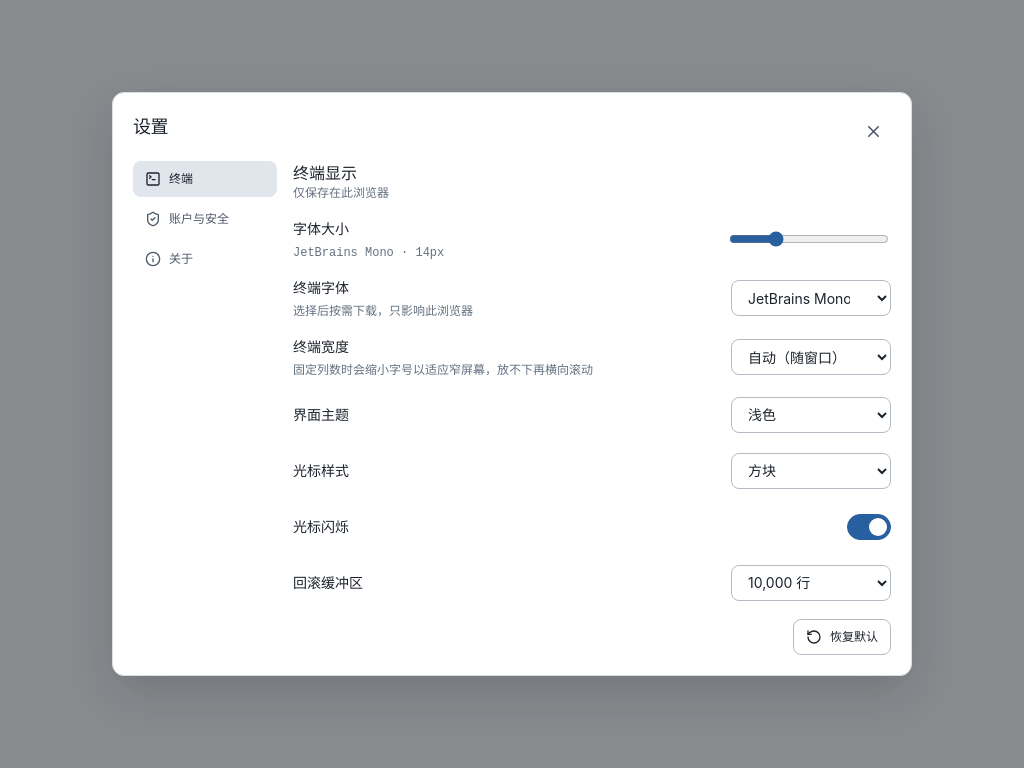
it: SettingsDialog behavior › reports a rejected current password without ending the session
The image size is (1024, 768).
Click the button "账户与安全".
click(205, 219)  # box [133,201,277,237]
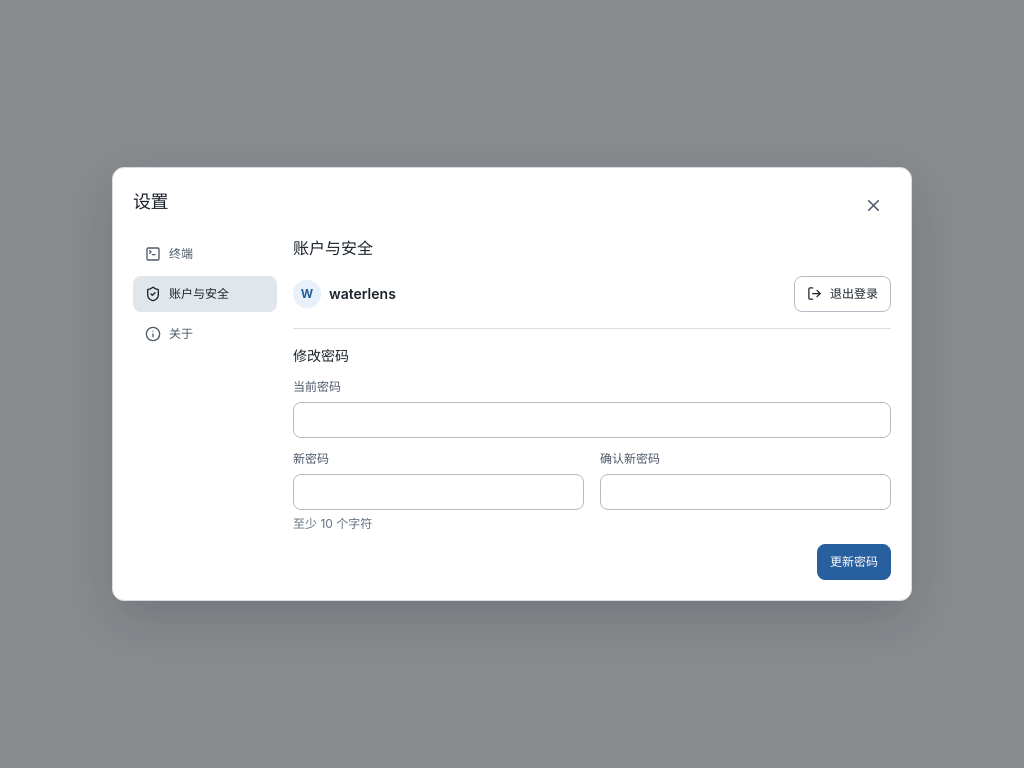
Type "wrong-password" into the password field labelled "当前密码".
click(592, 420); type("wrong-password")  # box [293,402,891,438]
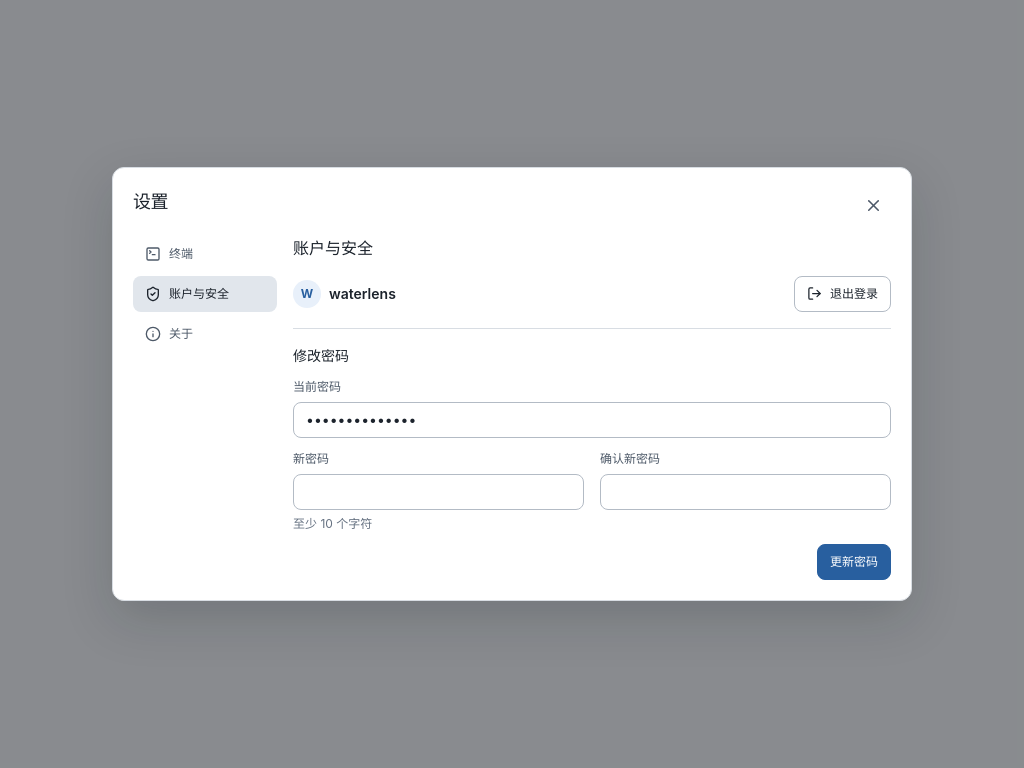
Type "new-password" into the password field labelled "新密码 至少 10 个字符".
click(438, 492); type("new-password")  # box [293,474,584,510]
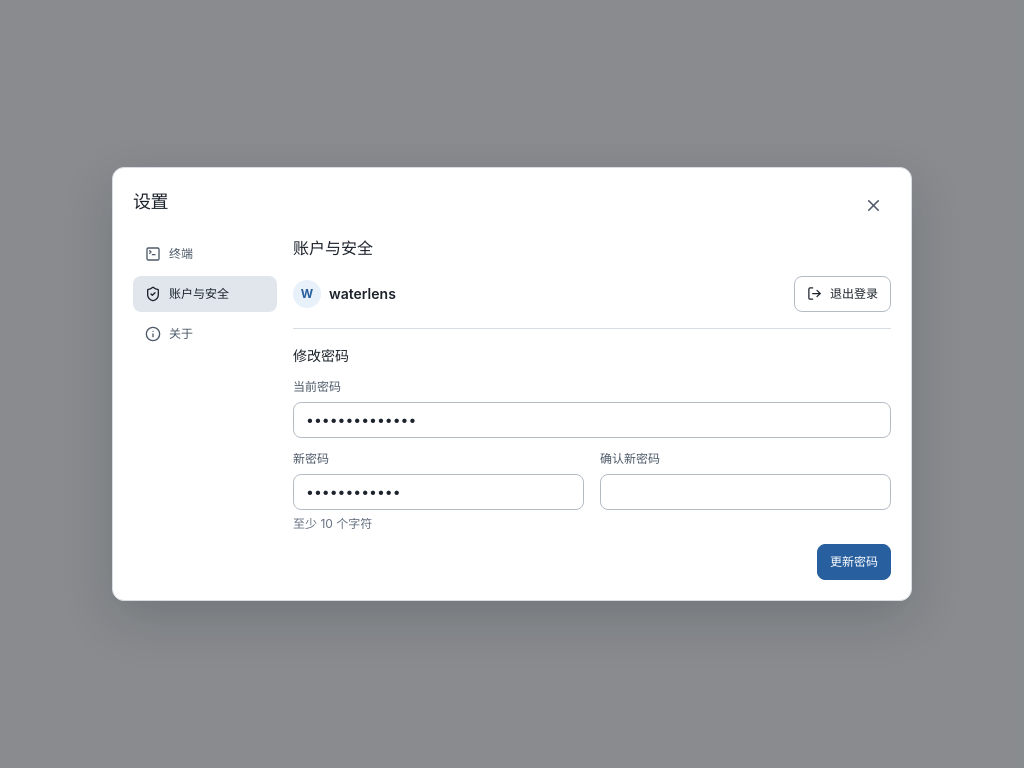
Type "new-password" into the password field labelled "确认新密码".
click(746, 492); type("new-password")  # box [600,474,891,510]
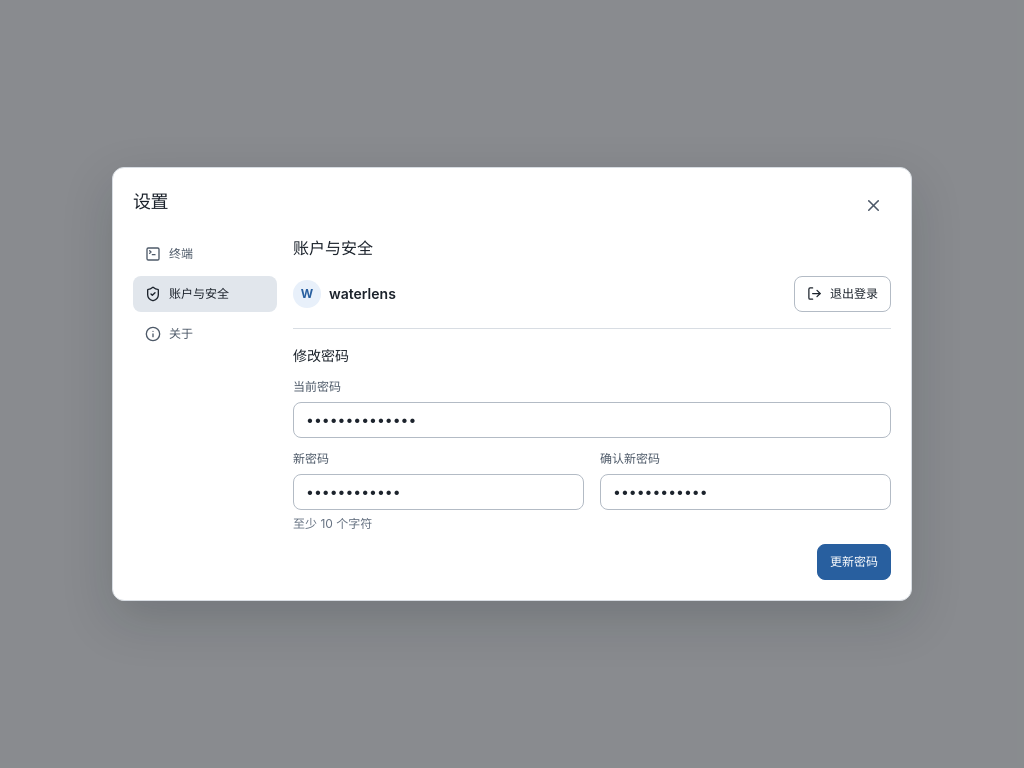
Click the button "更新密码".
click(854, 562)  # box [817,544,891,580]
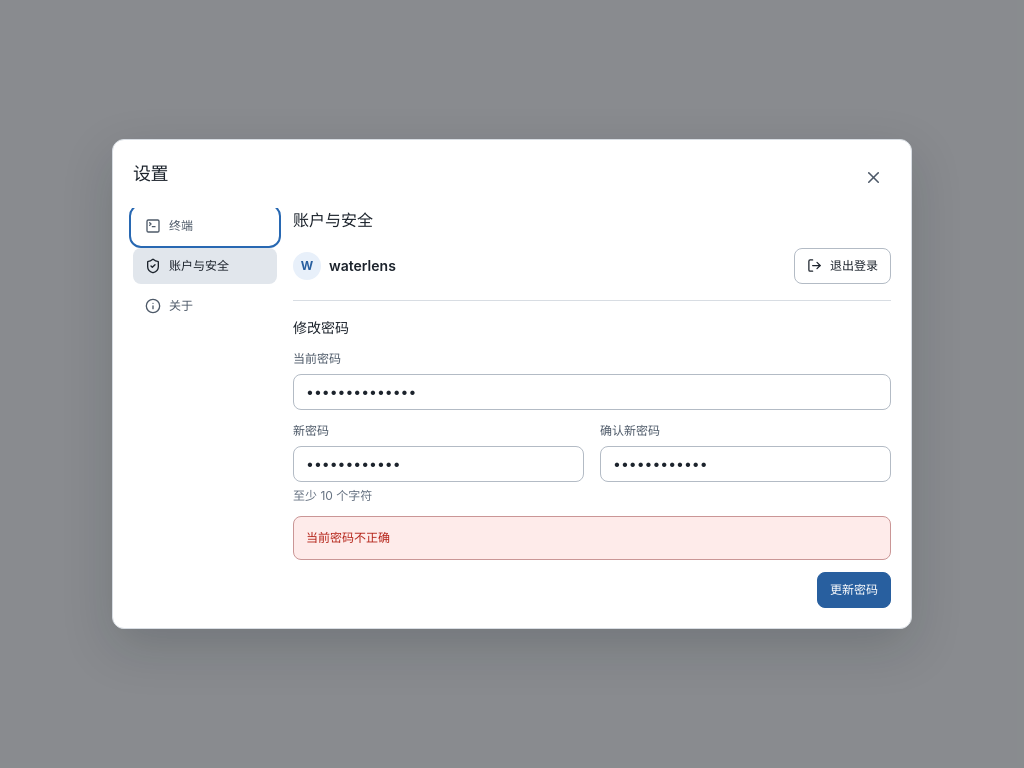
Check: the message reads "当前密码不正确", box [306,530,390,545]
